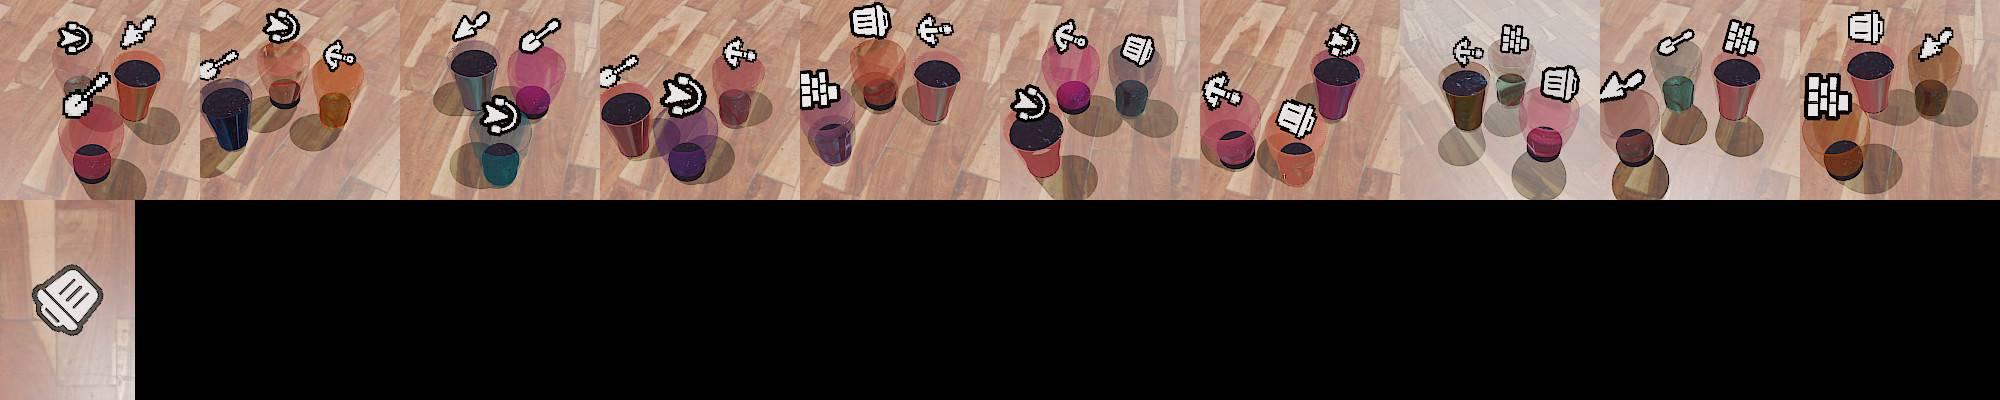icon: (31, 262, 105, 338), (61, 71, 115, 118), (1802, 71, 1853, 120), (658, 70, 707, 117), (797, 66, 842, 111), (1274, 97, 1319, 140), (478, 93, 522, 136), (849, 3, 894, 41), (519, 17, 564, 55), (1598, 68, 1645, 102), (1541, 64, 1580, 103), (1721, 18, 1760, 57), (598, 54, 640, 89), (1847, 9, 1885, 47), (1203, 71, 1241, 110), (915, 13, 955, 48), (1050, 18, 1088, 55), (1010, 83, 1048, 120), (261, 8, 300, 45), (198, 50, 241, 82), (452, 9, 491, 42), (1324, 23, 1360, 59), (57, 20, 93, 56), (119, 15, 156, 50), (721, 36, 759, 69), (1120, 33, 1156, 68), (1917, 27, 1954, 60), (1656, 28, 1695, 57), (1452, 34, 1487, 66), (323, 38, 357, 70), (1499, 23, 1532, 55)
